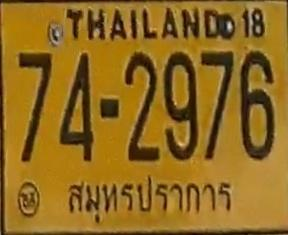2: (123, 49, 161, 164)
4: (58, 52, 94, 162)
6: (240, 51, 274, 160)
7: (200, 51, 233, 161), (18, 53, 49, 163)
9: (162, 53, 201, 158)
SPK: (59, 167, 237, 225)
